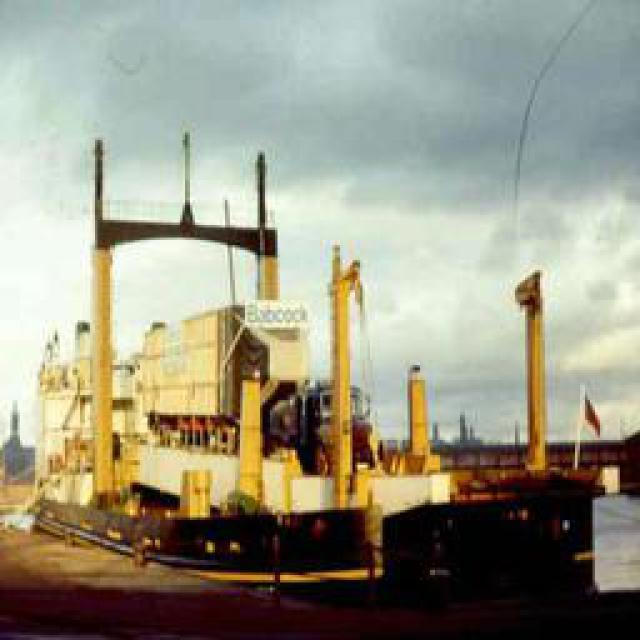Ship: (26, 119, 612, 606)
